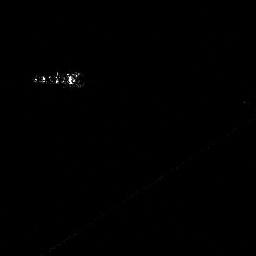ship: (32, 71, 82, 90)
